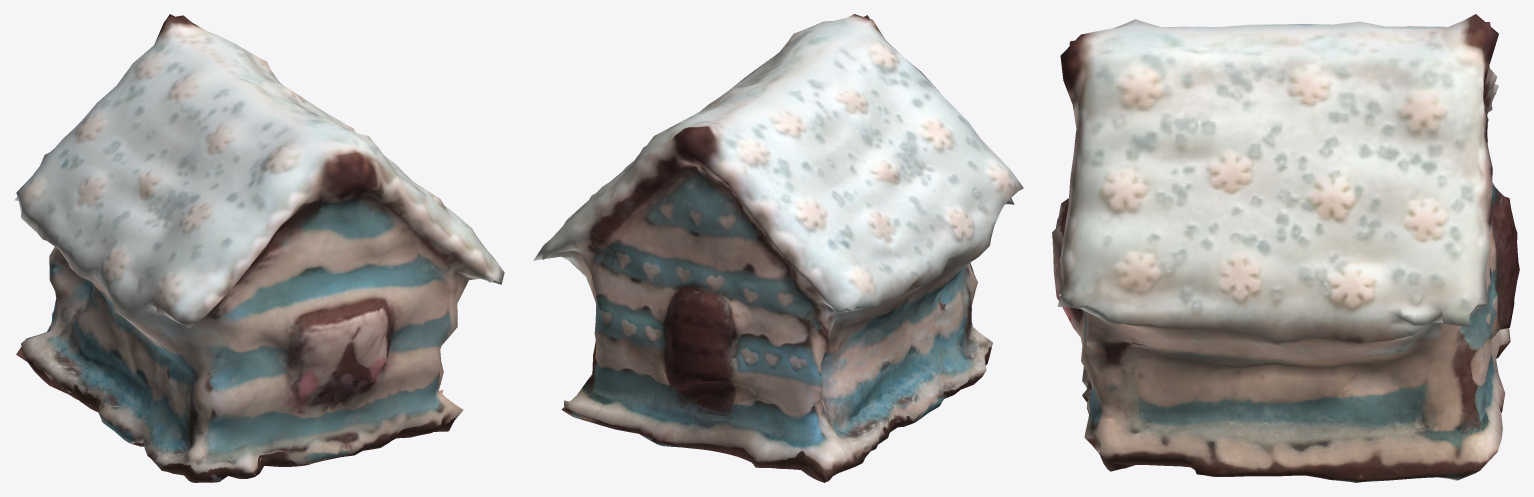
Rendered from house.glb.
The picture shows the model from 3 angles, left to right: view 1: azimuth 30°, elevation 25°; view 2: azimuth 150°, elevation 25°; view 3: azimuth 270°, elevation 25°; orthographic projection. The views are drawn at different scales.
Parts seen in each view (by area): view 1: Gingerbread_House_Scan; view 2: Gingerbread_House_Scan; view 3: Gingerbread_House_Scan.
Boxes of the visible parts, x1,y1,x2,y2 form: Gingerbread_House_Scan: [14, 14, 504, 482]; Gingerbread_House_Scan: [533, 14, 1023, 482]; Gingerbread_House_Scan: [1052, 14, 1519, 482].
Bounding box in the file's own units: 0.3981 × 0.3663 × 0.3989.
Materials: 1 (1 with a texture image).
